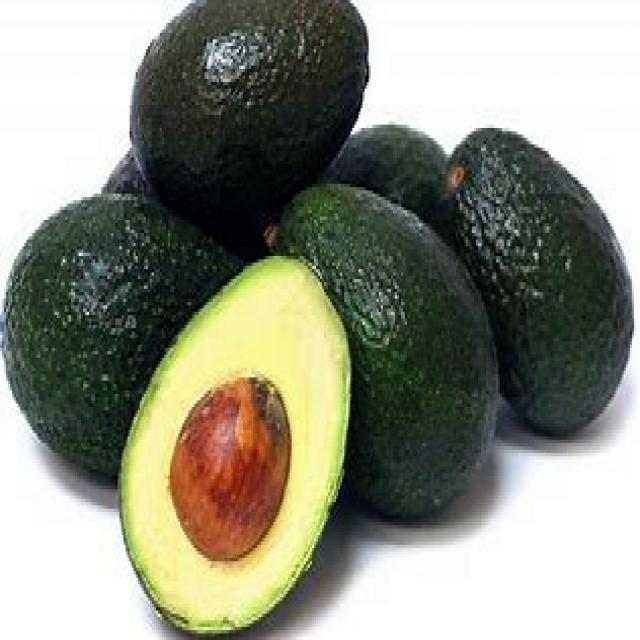Avocado: (102, 263, 356, 640), (129, 0, 377, 220), (492, 106, 640, 464), (345, 218, 477, 565), (6, 208, 124, 538)
